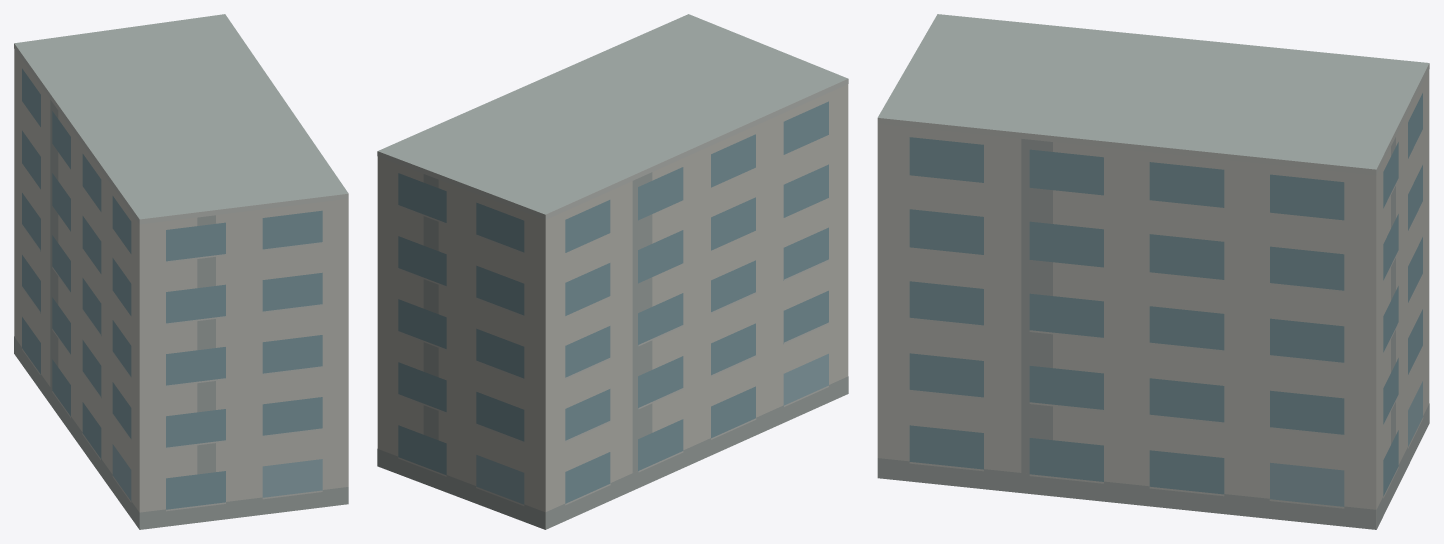
File: survey-upis-32931594.glb
The picture shows the model from 3 angles, left to right: view 1: azimuth 30°, elevation 25°; view 2: azimuth 150°, elevation 25°; view 3: azimuth 270°, elevation 25°; orthographic projection. The views are drawn at different scales.
Parts seen in each view (by area): view 1: survey-upis-32931594.tmp; view 2: survey-upis-32931594.tmp; view 3: survey-upis-32931594.tmp.
Part boxes in pixels (<box>): survey-upis-32931594.tmp: <box>14,14,348,529</box>; survey-upis-32931594.tmp: <box>377,14,848,529</box>; survey-upis-32931594.tmp: <box>877,14,1429,529</box>.
Size of the model in its own units: 13.44 by 14.5 by 20.14.
